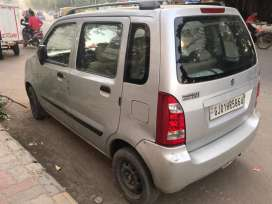license_plate: (206, 88, 244, 121)
